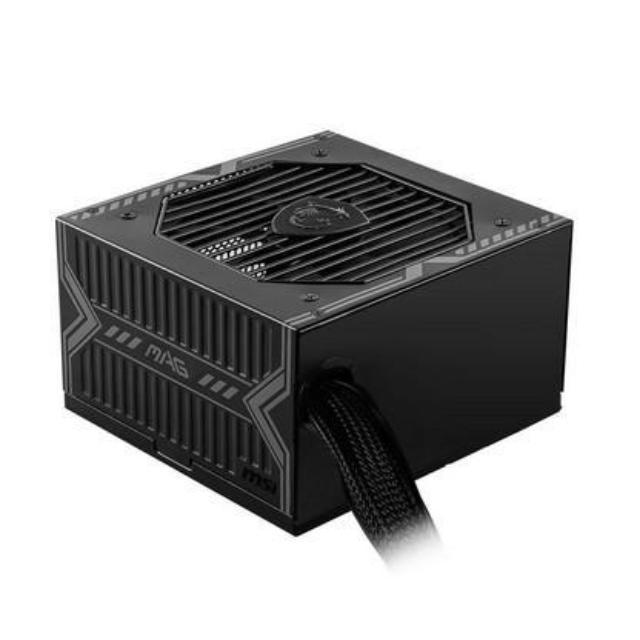PSU: (47, 113, 584, 555)
